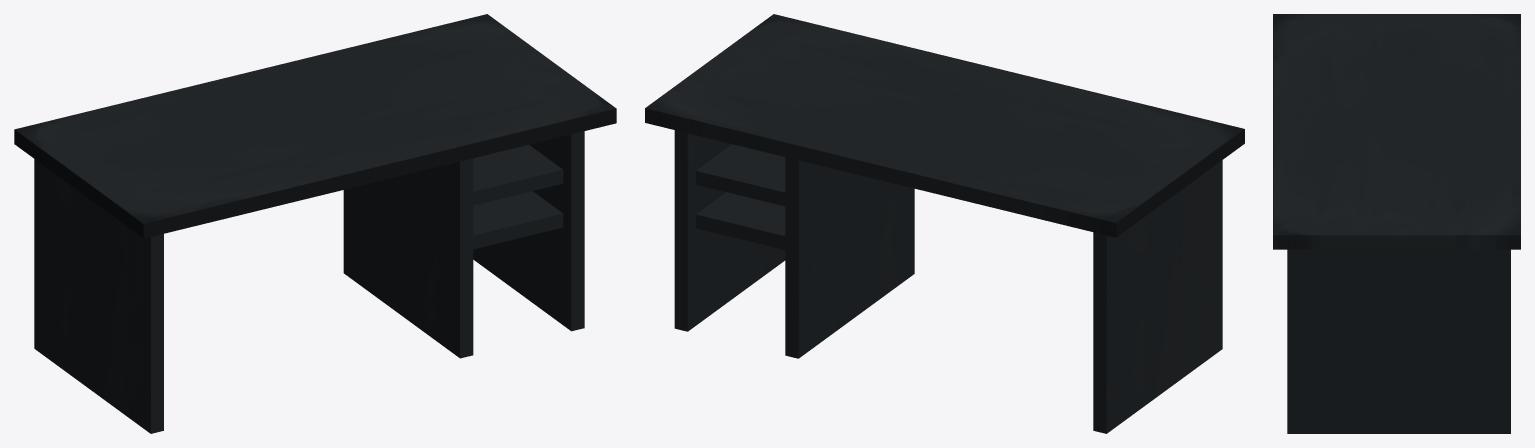
The model's file is Table.fbx.
The picture shows the model from 3 angles, left to right: view 1: azimuth 30°, elevation 25°; view 2: azimuth 150°, elevation 25°; view 3: azimuth 270°, elevation 25°; orthographic projection. The views are drawn at different scales.
Parts seen in each view (by area): view 1: Table texture, Cube, Cube.001, Cube.002, Cube.003, Cube.004; view 2: Table texture, Cube, Cube.001, Cube.002, Cube.003, Cube.004; view 3: Table texture, Cube.002.
Part boxes in pixels (x1,y1,x2,y2): Table texture: (14, 14, 616, 238); Cube: (34, 159, 163, 433); Cube.001: (343, 158, 473, 358); Cube.002: (473, 131, 584, 331); Cube.003: (473, 145, 563, 205); Cube.004: (473, 191, 563, 249); Table texture: (645, 14, 1244, 237); Cube: (1093, 160, 1222, 433); Cube.001: (785, 157, 914, 358); Cube.002: (674, 130, 785, 331); Cube.003: (696, 144, 785, 206); Cube.004: (696, 192, 785, 249); Table texture: (1273, 14, 1520, 249); Cube.002: (1287, 249, 1510, 433).
Size of the model in its own units: 468 by 207 by 222.
Materials: 2 (2 with a texture image).
